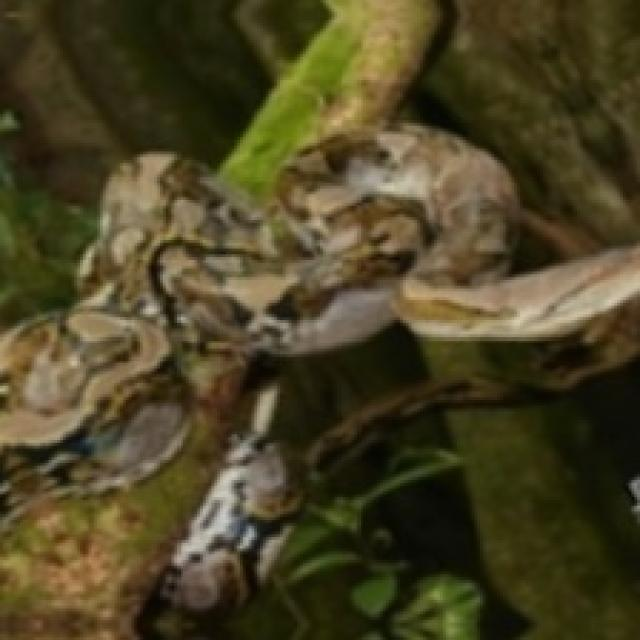reticulated python: (0, 125, 640, 636)
